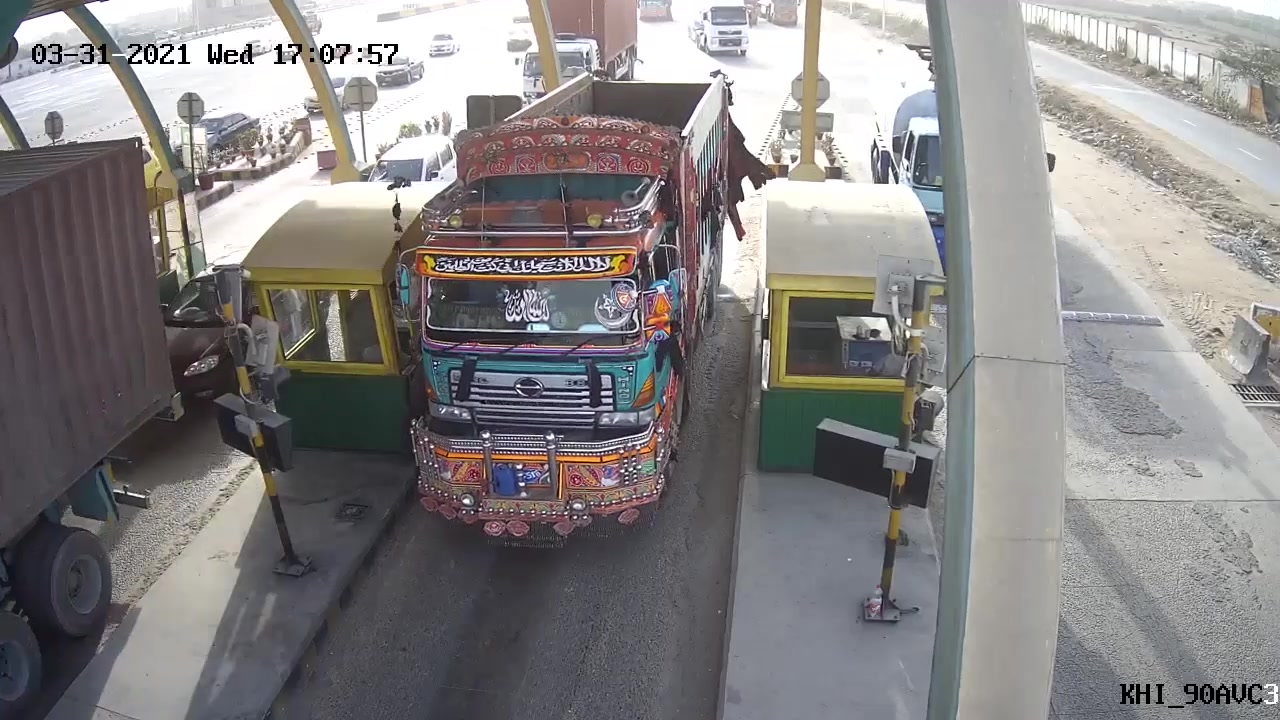F5: (373, 63, 748, 544)
